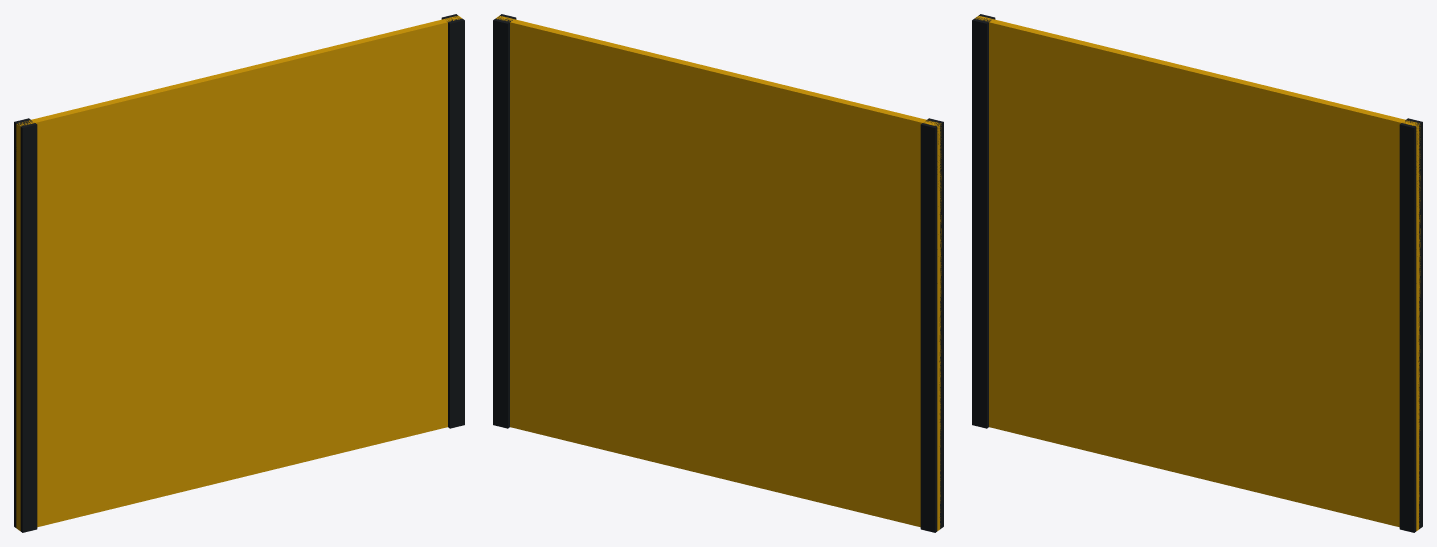
3 views of the same model, side by side, from view 1: azimuth 30°, elevation 25°; view 2: azimuth 150°, elevation 25°; view 3: azimuth 330°, elevation 25° (orthographic).
Parts seen in each view (by area): view 1: panel, post:-1, post:1; view 2: panel, post:-1, post:1; view 3: panel, post:1, post:-1.
Boxes of the visible parts, bbox=[...] form: panel: bbox=[16, 15, 461, 530]; post:-1: bbox=[14, 118, 37, 532]; post:1: bbox=[441, 14, 464, 428]; panel: bbox=[496, 16, 941, 530]; post:-1: bbox=[920, 118, 943, 532]; post:1: bbox=[493, 14, 516, 428]; panel: bbox=[975, 16, 1420, 530]; post:1: bbox=[1399, 118, 1422, 532]; post:-1: bbox=[972, 14, 995, 428].
Size of the model in its own units: 2.4 by 2.1 by 0.08.
